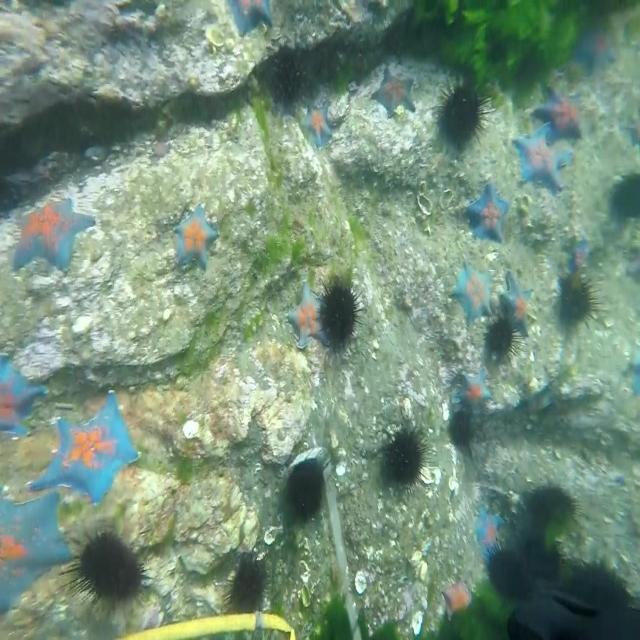echinus: (56, 526, 156, 619), (430, 76, 496, 151), (311, 274, 370, 352), (376, 419, 436, 494), (220, 550, 274, 616), (556, 263, 608, 331), (483, 538, 534, 604), (526, 480, 580, 537), (482, 310, 526, 368), (286, 461, 326, 524), (524, 538, 566, 582), (272, 52, 306, 106), (609, 169, 640, 227), (449, 408, 473, 451)
starfish: (26, 386, 145, 511), (0, 478, 77, 618), (10, 194, 97, 273), (0, 347, 47, 442), (512, 118, 570, 194), (286, 275, 335, 353), (170, 198, 220, 274), (530, 80, 586, 143), (465, 178, 510, 247), (497, 266, 536, 342), (451, 258, 494, 322), (369, 65, 418, 118), (571, 25, 618, 80), (456, 364, 494, 425), (225, 0, 274, 40), (474, 504, 505, 562), (300, 98, 334, 150), (440, 577, 475, 624)
